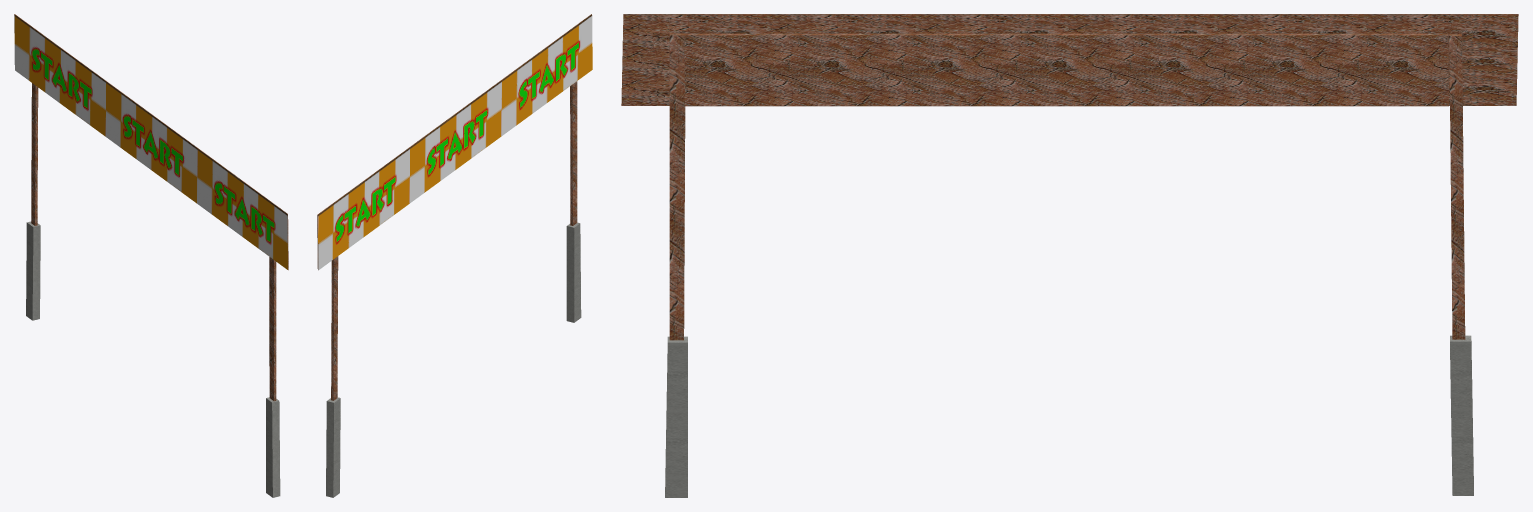
Rendered from checkpointstart.glb.
3 views of the same model, side by side, from view 1: azimuth 30°, elevation 25°; view 2: azimuth 150°, elevation 25°; view 3: azimuth 270°, elevation 25° (orthographic). The views are drawn at different scales.
Visible parts, largest first — view 1: checkpointstart; view 2: checkpointstart; view 3: checkpointstart.
Boxes of the visible parts, x1,y1,x2,y2 form: checkpointstart: (14, 14, 288, 497); checkpointstart: (317, 14, 592, 497); checkpointstart: (621, 14, 1518, 497).
Bounding box in the file's own units: 0.75 × 28.38 × 48.11.
3 materials, 3 textured.
